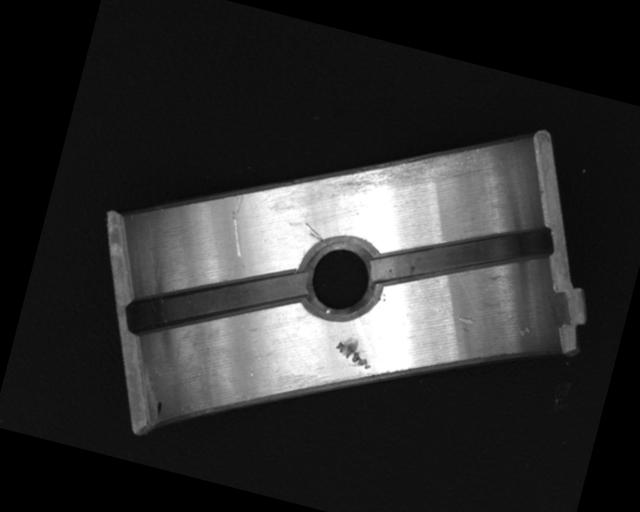blot: (154, 400, 164, 417)
bruise: (332, 333, 377, 370), (452, 312, 476, 326)
gap: (124, 232, 309, 369), (371, 189, 558, 319)
hole: (290, 228, 387, 330)
nick: (220, 190, 265, 269), (302, 221, 327, 242)
scratch: (306, 108, 485, 233)
